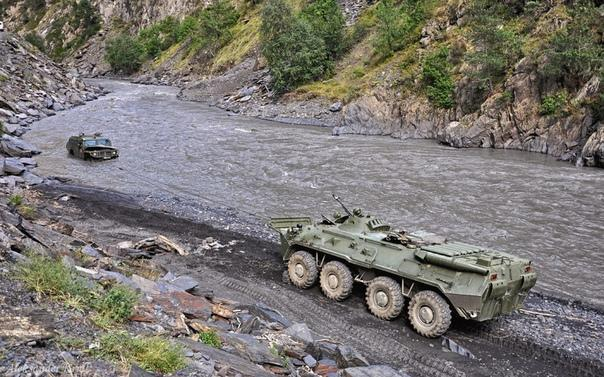armored_car: (66, 132, 119, 163)
tank: (268, 193, 538, 338)
